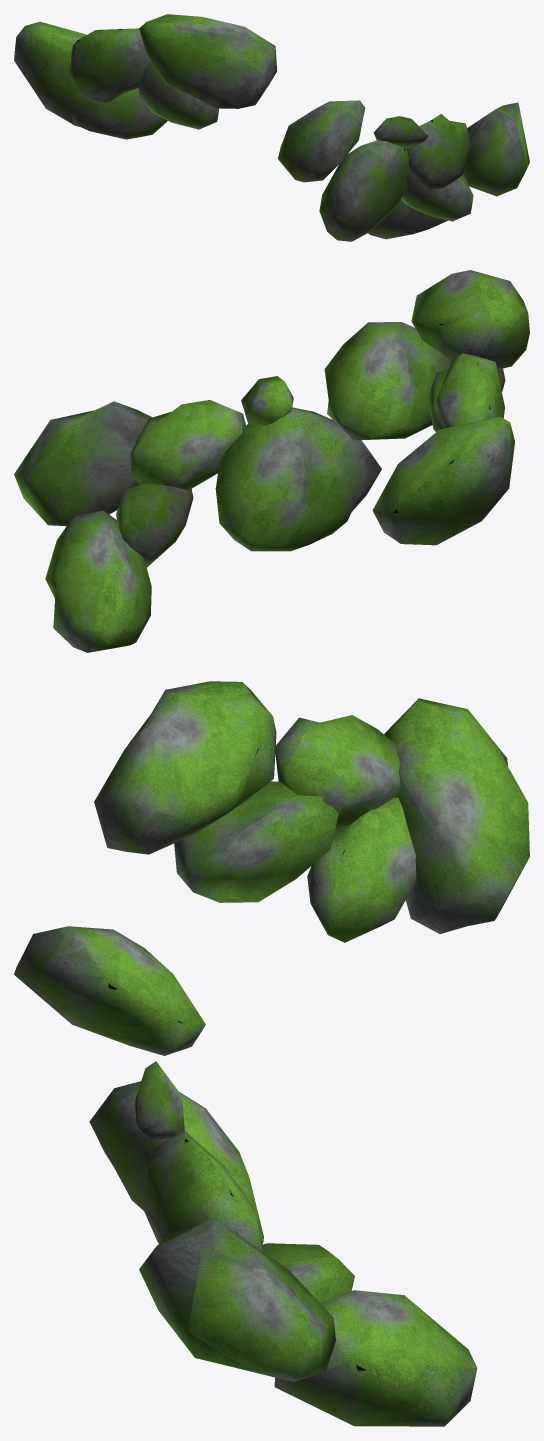
File: river_stones_a.glb
3 renders of one model, top to bottom at view 1: azimuth 30°, elevation 25°; view 2: azimuth 150°, elevation 25°; view 3: azimuth 270°, elevation 25°, orthographic. The views are drawn at different scales.
Parts seen in each view (by area): view 1: mossy_stone_b.jpg__, mossy_stone_a.jpg__; view 2: mossy_stone_b.jpg__, mossy_stone_a.jpg__; view 3: mossy_stone_b.jpg__, mossy_stone_a.jpg__.
Boxes of the visible parts, x1=… form: mossy_stone_b.jpg__: x1=14, y1=14, x2=473, y2=241; mossy_stone_a.jpg__: x1=368, y1=102, x2=529, y2=239; mossy_stone_b.jpg__: x1=116, y1=270, x2=529, y2=567; mossy_stone_a.jpg__: x1=14, y1=401, x2=152, y2=652; mossy_stone_b.jpg__: x1=14, y1=681, x2=529, y2=1303; mossy_stone_a.jpg__: x1=139, y1=1217, x2=477, y2=1426.
Size of the model in its own units: 10.73 by 7.31 by 6.45.
Materials: 2 (2 with a texture image).
